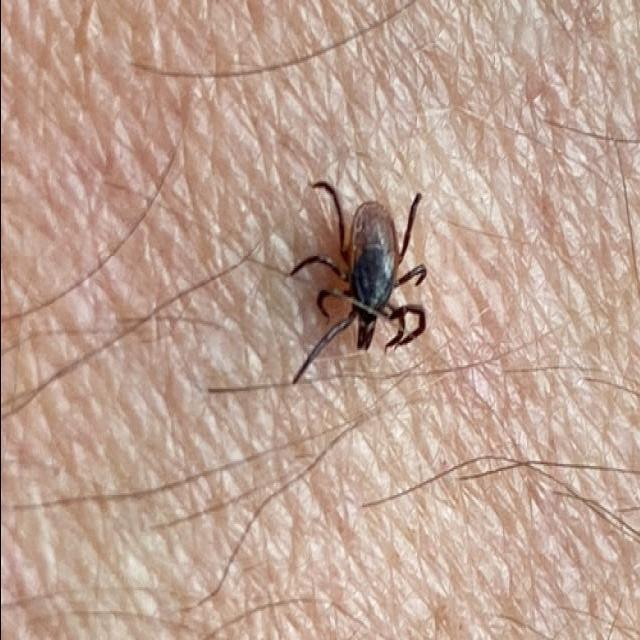Ixodes Ricinus-F: (285, 181, 424, 382)
